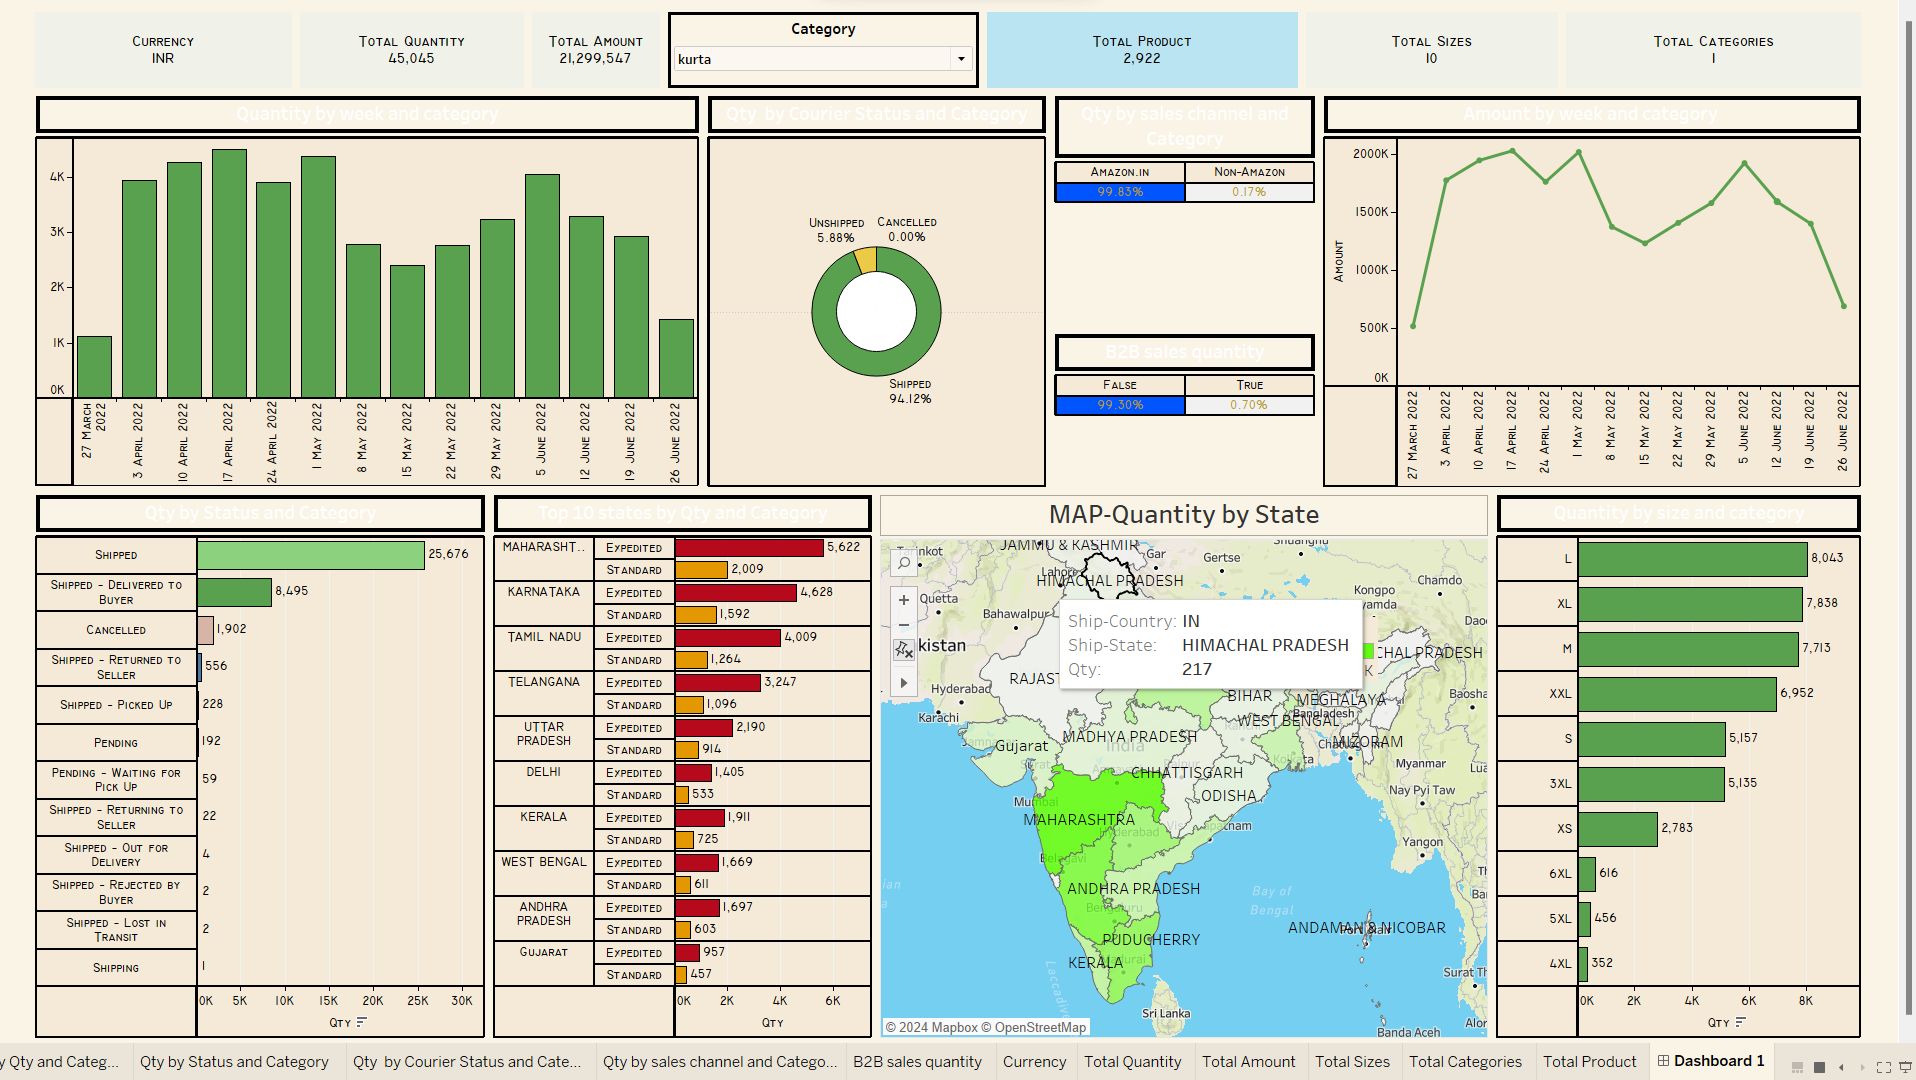

What the dashboard file says about the page in this screenshot:
{"tool":"tableau","page":{"name":"Dashboard 1","canvas":[1850,1050],"ordinal":0},"visuals":[{"type":"worksheet","title":"Currency","mark":"Automatic","box":[8,8,265,84]},{"type":"worksheet","title":"Total Quantity","mark":"Automatic","box":[273,8,232,84]},{"type":"worksheet","title":"Total Amount","mark":"Automatic","box":[505,8,136.3,84]},{"type":"filter","title":"Map","param":"[federated.0gc5q900nran4c199976y0p3r9t9].[none:Category:nk]","box":[641.3,8,318.9,84]},{"type":"worksheet","title":"Total Product","mark":"Automatic","box":[960.1,8,318.9,84]},{"type":"worksheet","title":"Total Sizes","mark":"Automatic","box":[1279,8,260,84]},{"type":"worksheet","title":"Total Categories","mark":"Automatic","box":[1539,8,303,84]},{"type":"worksheet","title":"Quantity by week and category","mark":"Bar","rows":["Qty"],"cols":["Date"],"box":[8,92,672,399.4]},{"type":"worksheet","title":"Qty  by Courier Status and Category","mark":"Pie","rows":["Calculation_652740516872847361","Calculation_652740516872847361"],"box":[680,92,346.9,399.4]},{"type":"worksheet","title":"Qty by sales channel and Category","mark":"Square","cols":["Sales Channel "],"box":[1026.9,92,269.1,237.5]},{"type":"worksheet","title":"Amount by week and category ","mark":"Line","rows":["Amount"],"cols":["Date"],"box":[1296,92,546,399.4]},{"type":"worksheet","title":"B2B sales quantity","mark":"Square","cols":["B2B"],"box":[1026.9,329.5,269.1,161.9]},{"type":"worksheet","title":"Qty by Status and Category","mark":"Bar","rows":["Status"],"cols":["Qty"],"box":[8,491.4,458.5,550.6]},{"type":"worksheet","title":"Top 10 states by Qty and Category","mark":"Bar","rows":["ship-state","ship-service-level"],"cols":["Qty"],"box":[466.5,491.4,386.5,550.6]},{"type":"worksheet","title":"Map","mark":"Automatic","box":[853,491.4,616,550.6]},{"type":"worksheet","title":"Quantity by size and category","mark":"Bar","rows":["Size"],"cols":["Qty"],"box":[1469,491.4,373,550.6]},{"type":"legend","title":"Map","param":"[federated.0gc5q900nran4c199976y0p3r9t9].[sum:Qty:qk]","box":[1270,617,85,65]}]}

Visuals, with their boxes in screenshot pixels (x1, y1, x2, y2):
"Currency" worksheet: [x1=13, y1=3, x2=281, y2=88]
"Total Quantity" worksheet: [x1=281, y1=3, x2=516, y2=88]
"Total Amount" worksheet: [x1=516, y1=3, x2=654, y2=88]
"Map" filter: [x1=654, y1=3, x2=977, y2=88]
"Total Product" worksheet: [x1=977, y1=3, x2=1300, y2=88]
"Total Sizes" worksheet: [x1=1300, y1=3, x2=1563, y2=88]
"Total Categories" worksheet: [x1=1563, y1=3, x2=1870, y2=88]
"Quantity by week and category" worksheet (Bar marks): [x1=13, y1=88, x2=693, y2=492]
"Qty  by Courier Status and Category" worksheet (Pie marks): [x1=693, y1=88, x2=1044, y2=492]
"Qty by sales channel and Category" worksheet (Square marks): [x1=1044, y1=88, x2=1317, y2=329]
"Amount by week and category " worksheet (Line marks): [x1=1317, y1=88, x2=1870, y2=492]
"B2B sales quantity" worksheet (Square marks): [x1=1044, y1=329, x2=1317, y2=492]
"Qty by Status and Category" worksheet (Bar marks): [x1=13, y1=492, x2=477, y2=1050]
"Top 10 states by Qty and Category" worksheet (Bar marks): [x1=477, y1=492, x2=868, y2=1050]
"Map" worksheet: [x1=868, y1=492, x2=1492, y2=1050]
"Quantity by size and category" worksheet (Bar marks): [x1=1492, y1=492, x2=1870, y2=1050]
"Map" legend: [x1=1291, y1=620, x2=1377, y2=685]
